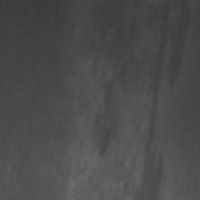inclusion: (133, 17, 190, 199), (91, 58, 131, 161)
